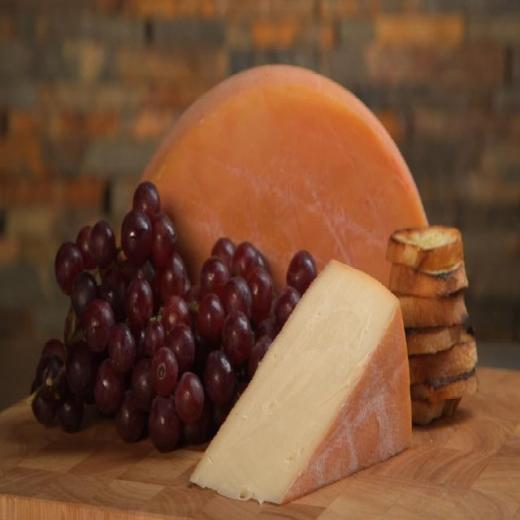Orange: (32, 183, 314, 450)
